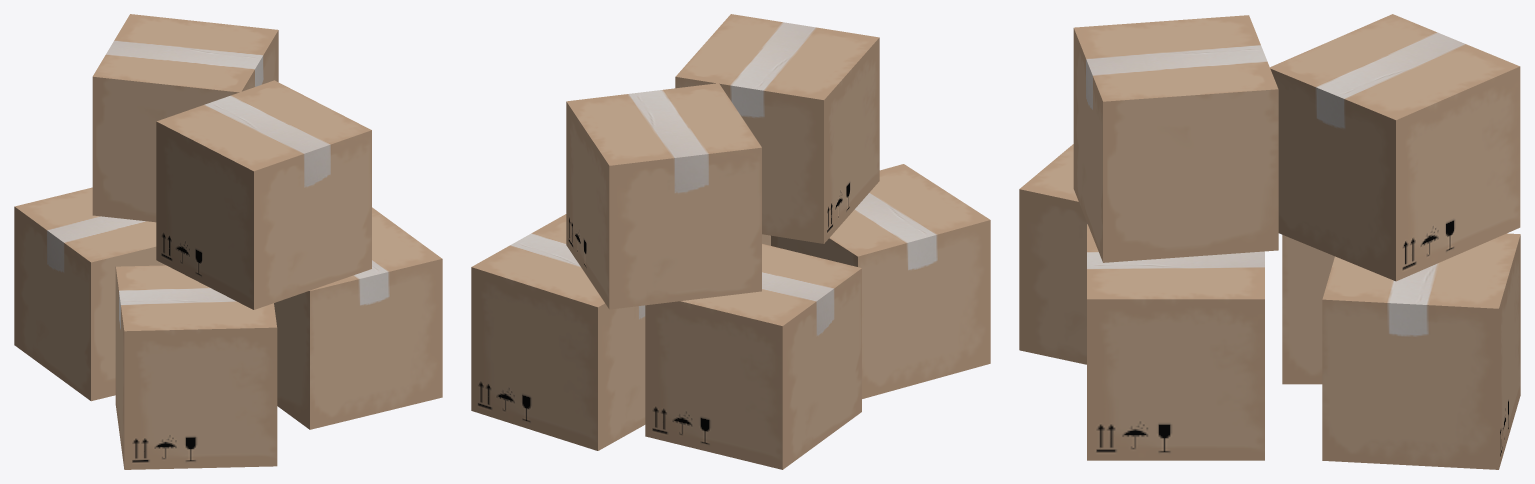
3 views of the same model, side by side, from view 1: azimuth 30°, elevation 25°; view 2: azimuth 150°, elevation 25°; view 3: azimuth 270°, elevation 25° (orthographic). The views are drawn at different scales.
Visible parts, largest first — view 1: CardBoardBox04_CardBoardBox_0, CardBoardBox03_CardBoardBox_0, CardBoardBox05_CardBoardBox_0, CardBoardBox00_CardBoardBox_0, CardBoardBox02_CardBoardBox_0; view 2: CardBoardBox00_CardBoardBox_0, CardBoardBox02_CardBoardBox_0, CardBoardBox01_CardBoardBox_0, CardBoardBox04_CardBoardBox_0, CardBoardBox03_CardBoardBox_0; view 3: CardBoardBox00_CardBoardBox_0, CardBoardBox04_CardBoardBox_0, CardBoardBox01_CardBoardBox_0, CardBoardBox05_CardBoardBox_0, CardBoardBox03_CardBoardBox_0, CardBoardBox02_CardBoardBox_0.
Part boxes in pixels (x1,y1,x2,y2): CardBoardBox04_CardBoardBox_0: (156, 80, 371, 309); CardBoardBox03_CardBoardBox_0: (115, 265, 277, 469); CardBoardBox05_CardBoardBox_0: (274, 207, 442, 429); CardBoardBox00_CardBoardBox_0: (92, 14, 278, 222); CardBoardBox02_CardBoardBox_0: (14, 187, 165, 401); CardBoardBox00_CardBoardBox_0: (566, 83, 761, 309); CardBoardBox02_CardBoardBox_0: (645, 244, 861, 469); CardBoardBox01_CardBoardBox_0: (471, 214, 645, 450); CardBoardBox04_CardBoardBox_0: (675, 14, 879, 243); CardBoardBox03_CardBoardBox_0: (771, 164, 990, 398); CardBoardBox00_CardBoardBox_0: (1270, 14, 1520, 281); CardBoardBox04_CardBoardBox_0: (1073, 15, 1278, 262); CardBoardBox01_CardBoardBox_0: (1322, 233, 1520, 469); CardBoardBox05_CardBoardBox_0: (1087, 224, 1264, 460); CardBoardBox03_CardBoardBox_0: (1019, 144, 1087, 364); CardBoardBox02_CardBoardBox_0: (1282, 235, 1334, 384).
Bounding box in the file's own units: 8.5 × 6.85 × 9.64.
Materials: 1 (1 with a texture image).
